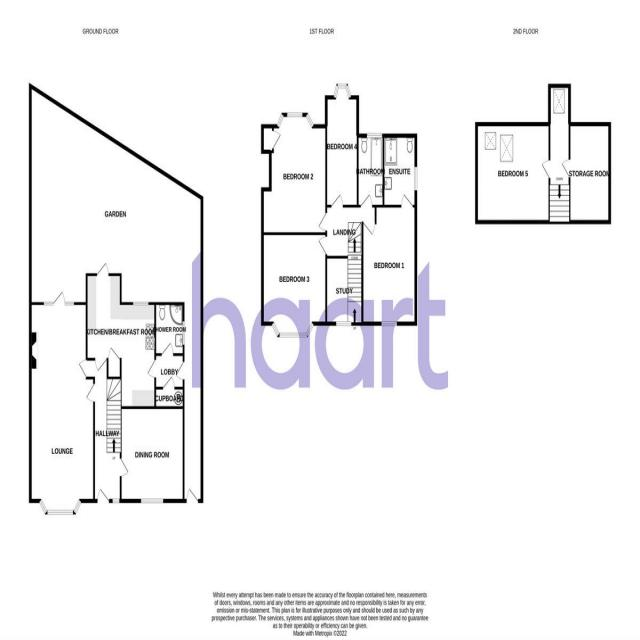DOOR: (540, 159, 551, 179), (119, 457, 129, 478), (317, 211, 327, 232), (186, 488, 199, 504), (360, 193, 373, 208), (331, 193, 344, 208), (363, 221, 376, 236), (85, 384, 95, 403), (317, 236, 327, 255), (96, 262, 109, 276), (161, 342, 174, 356), (95, 357, 107, 372), (97, 488, 109, 503), (401, 193, 413, 208), (147, 359, 156, 378), (78, 360, 87, 378)
ROOM: (86, 261, 156, 410), (261, 111, 327, 236), (475, 122, 551, 225), (361, 192, 417, 327), (261, 231, 328, 337), (120, 406, 185, 504), (325, 82, 359, 208)
WINDOW: (279, 321, 314, 338), (333, 83, 352, 100), (38, 498, 48, 515), (305, 112, 315, 129), (46, 509, 73, 515), (271, 321, 280, 338), (73, 499, 82, 515), (140, 498, 163, 504), (276, 113, 284, 128), (414, 165, 418, 191), (286, 112, 303, 118), (336, 321, 352, 327), (366, 133, 382, 139), (380, 321, 398, 326), (132, 301, 149, 306), (112, 498, 120, 504)
